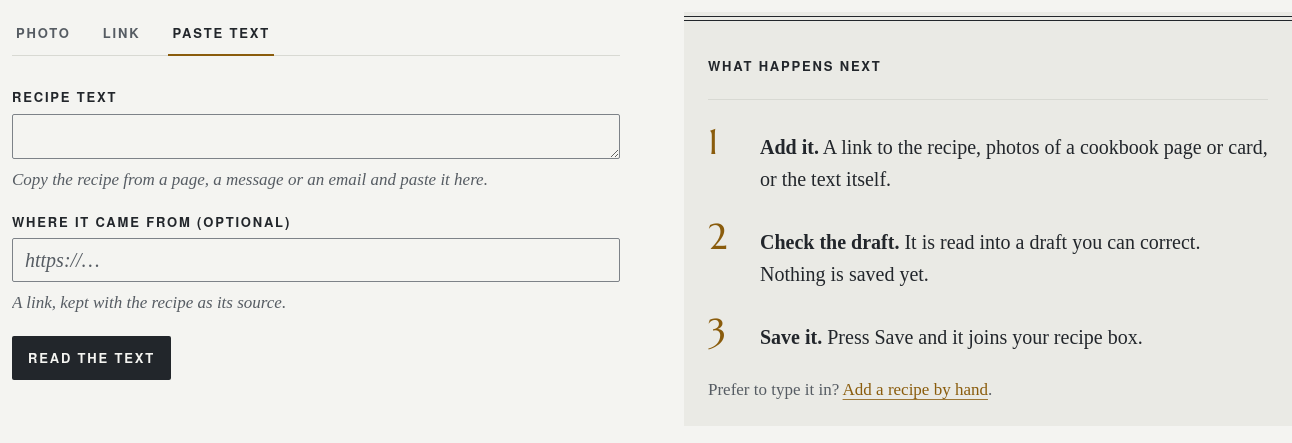
Test: ImportScreen › shows a sourceUrl error under the source field and focuses it
The width and height of the screenshot is (1292, 443).
Step 1. Type "2 eggs. Whisk." into the text box labelled "Recipe text" → (316, 136), box [12,114,620,159]
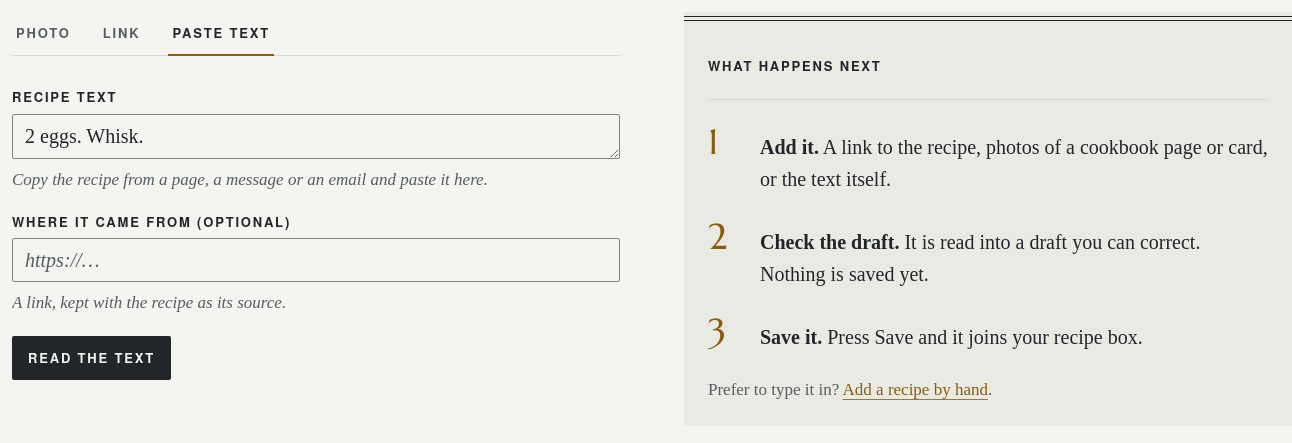
Step 2. Click the button "Read the text" → click(92, 358), box [12,336,171,380]
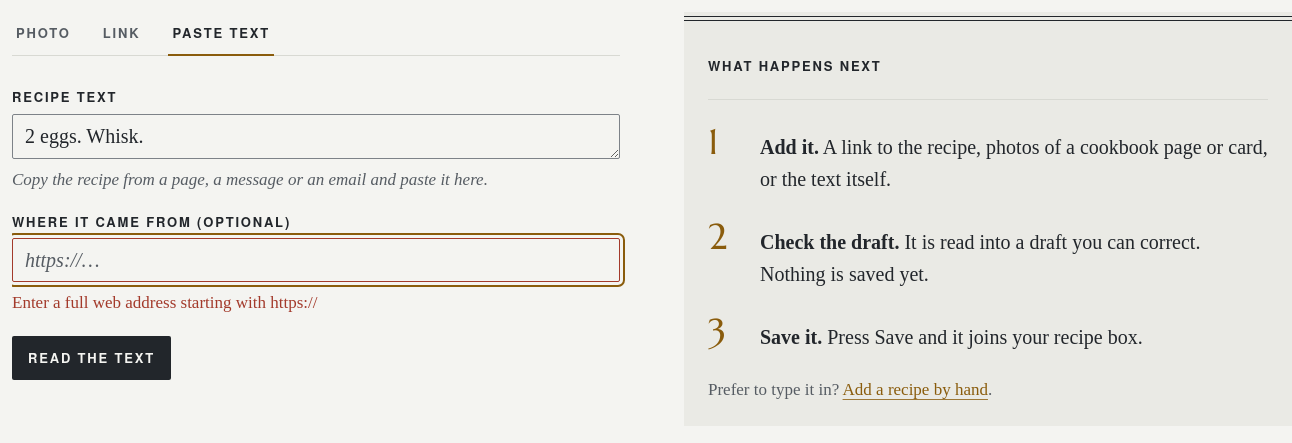
Now the text "Enter a full web address starting with https://" is shown, box [12,293,318,312]
